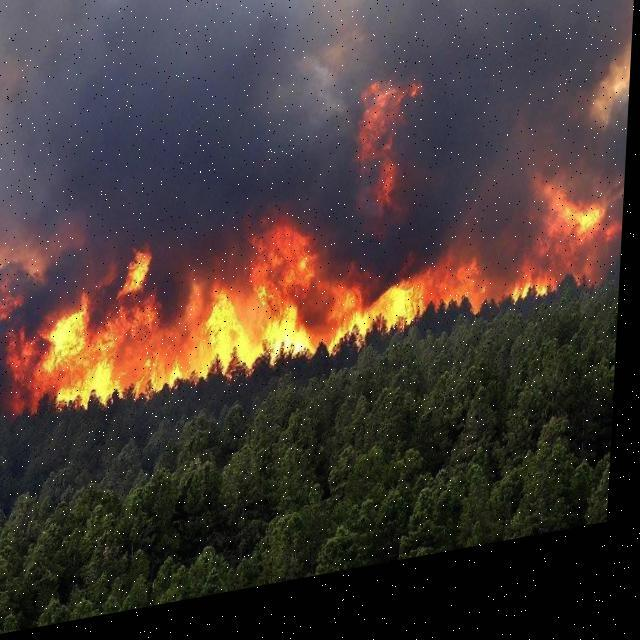Fire: (0, 185, 511, 430), (518, 174, 616, 329)
